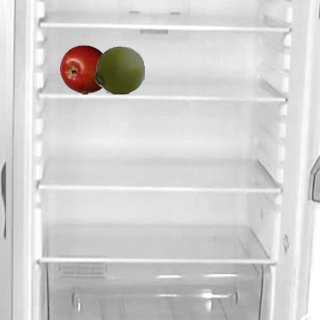Apple Braeburn: (59, 44, 109, 94)
Grape White 4: (94, 44, 144, 94)
